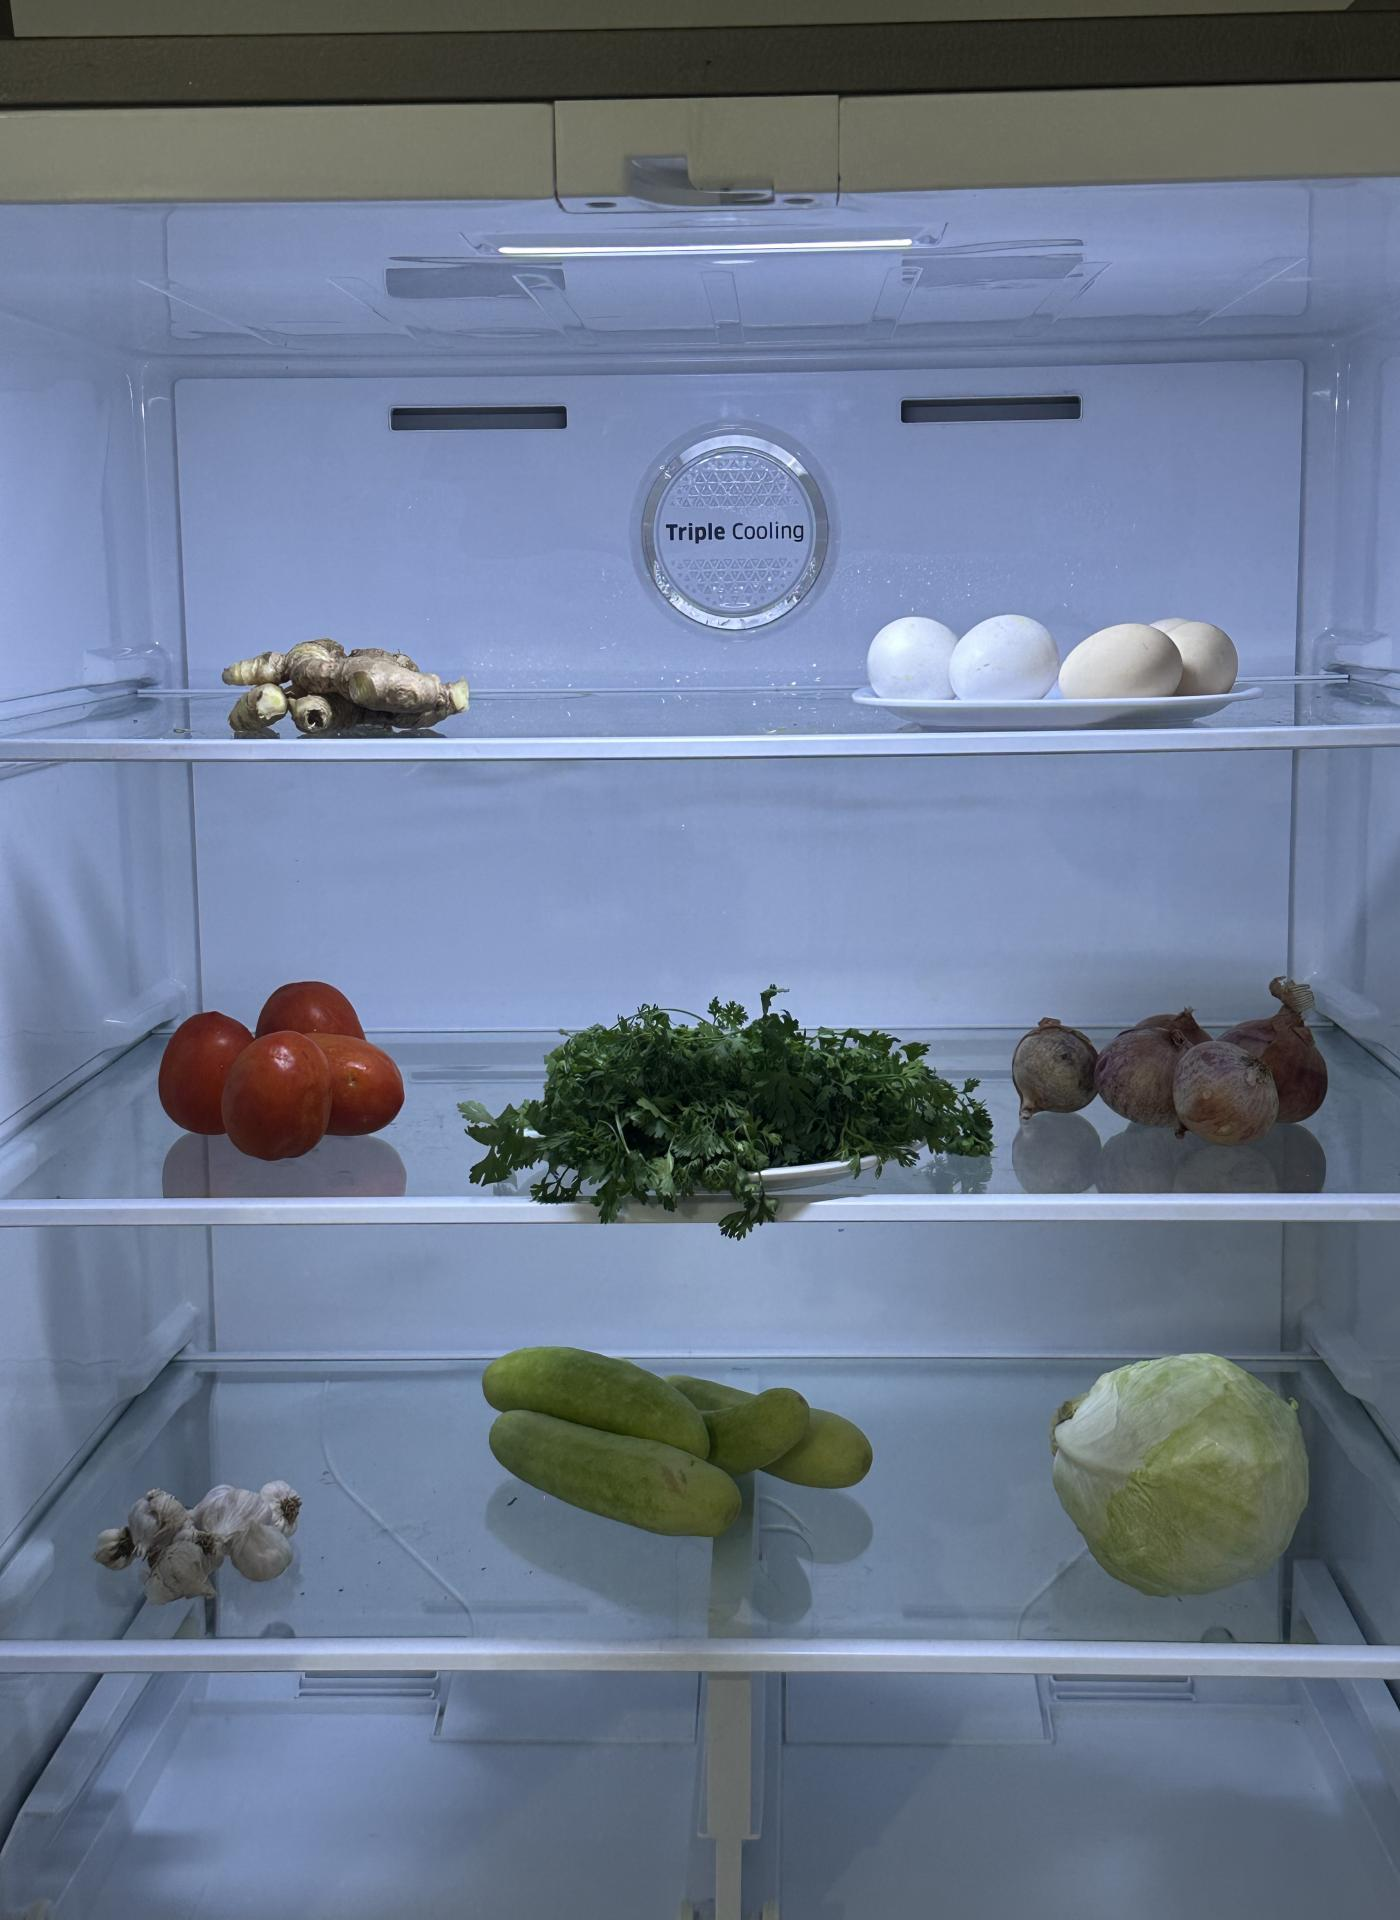cabbage: (1056, 1358, 1318, 1604)
coriander: (479, 994, 987, 1209)
cucumber: (476, 1340, 874, 1540)
egg: (856, 604, 1248, 721)
garlic: (100, 1468, 313, 1604)
ginger: (222, 626, 477, 741)
onion: (1020, 1011, 1331, 1154)
tomato: (161, 978, 416, 1164)
